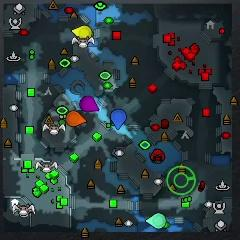p1: (111, 109, 126, 129)
p2: (146, 213, 166, 229)
p3: (80, 96, 100, 111)
p4: (72, 26, 92, 39)
p5: (66, 110, 86, 126)
